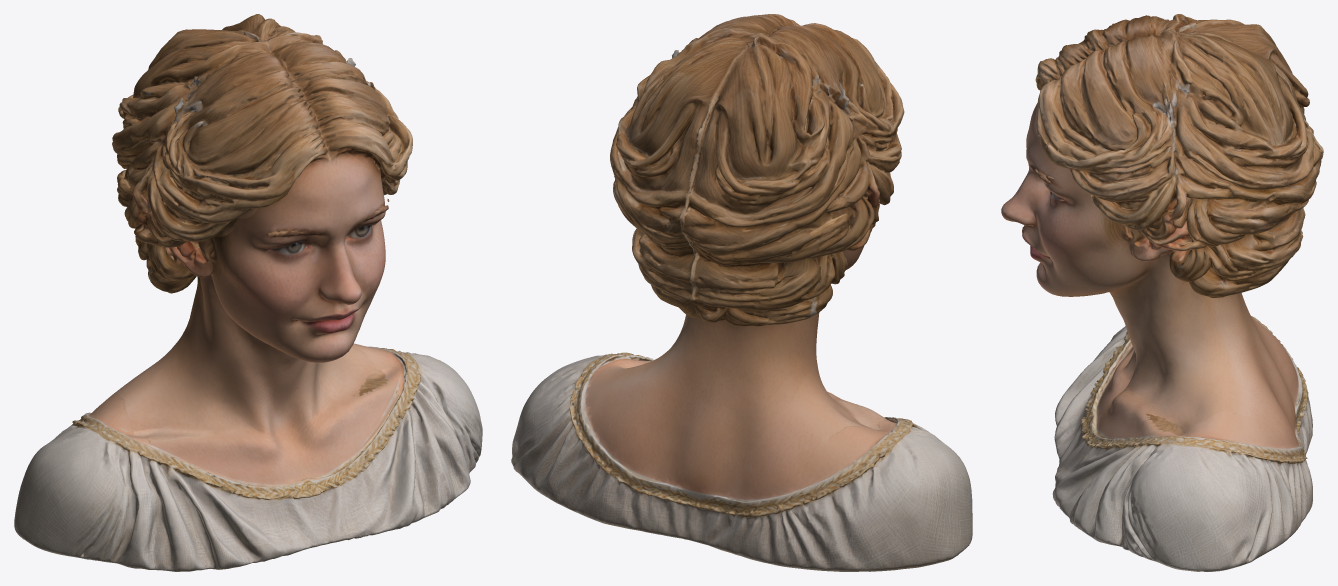
The model's file is varco-source.glb.
The picture shows the model from 3 angles, left to right: view 1: azimuth 30°, elevation 25°; view 2: azimuth 150°, elevation 25°; view 3: azimuth 270°, elevation 25°; orthographic projection. The views are drawn at different scales.
Visible parts, largest first — view 1: texture_mapping; view 2: texture_mapping; view 3: texture_mapping.
Boxes of the visible parts, left/top/right/bottom form: texture_mapping: left=14, top=14, right=482, bottom=571; texture_mapping: left=511, top=14, right=972, bottom=571; texture_mapping: left=1001, top=14, right=1323, bottom=571.
Size of the model in its own units: 1 by 0.9988 by 0.6579.
Materials: 1 (1 with a texture image).
